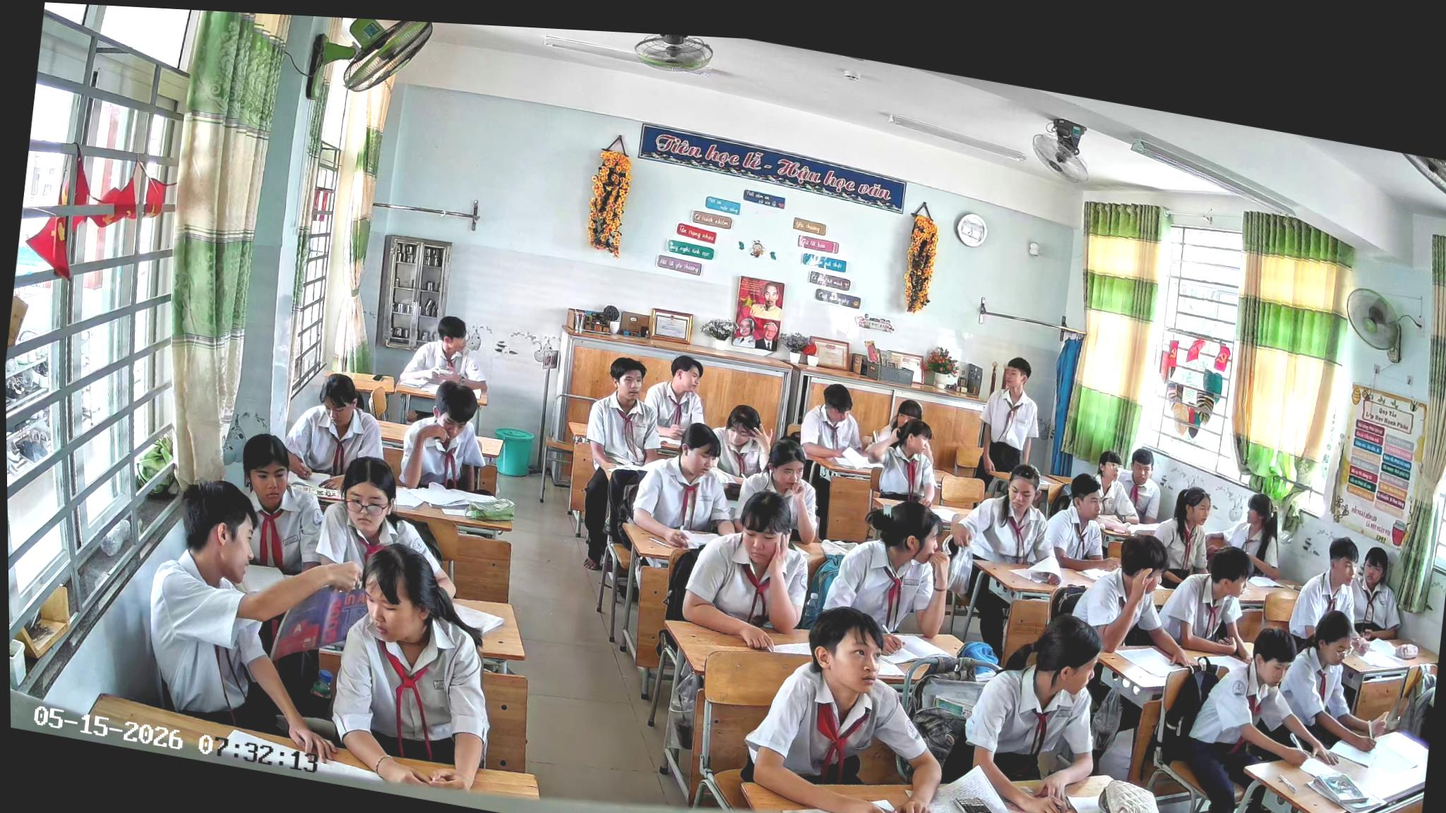person: (130, 468, 375, 767), (319, 533, 512, 803), (734, 591, 962, 813), (1165, 612, 1359, 813), (952, 599, 1115, 813), (932, 451, 1076, 667), (816, 488, 964, 667), (300, 447, 469, 603), (678, 476, 821, 659), (569, 351, 675, 581), (1268, 600, 1416, 761), (1065, 523, 1209, 670), (624, 411, 750, 560), (226, 430, 333, 580), (277, 364, 395, 499), (1153, 534, 1267, 669), (1282, 528, 1388, 662), (395, 372, 497, 501), (728, 429, 830, 556), (968, 350, 1047, 505), (1037, 467, 1130, 582), (395, 307, 497, 404), (1145, 480, 1221, 596), (1200, 484, 1289, 583), (863, 411, 946, 509), (638, 348, 712, 453), (1341, 542, 1414, 646), (795, 378, 874, 468), (705, 399, 780, 487), (1083, 447, 1147, 531), (1112, 444, 1166, 526), (862, 393, 926, 459)
